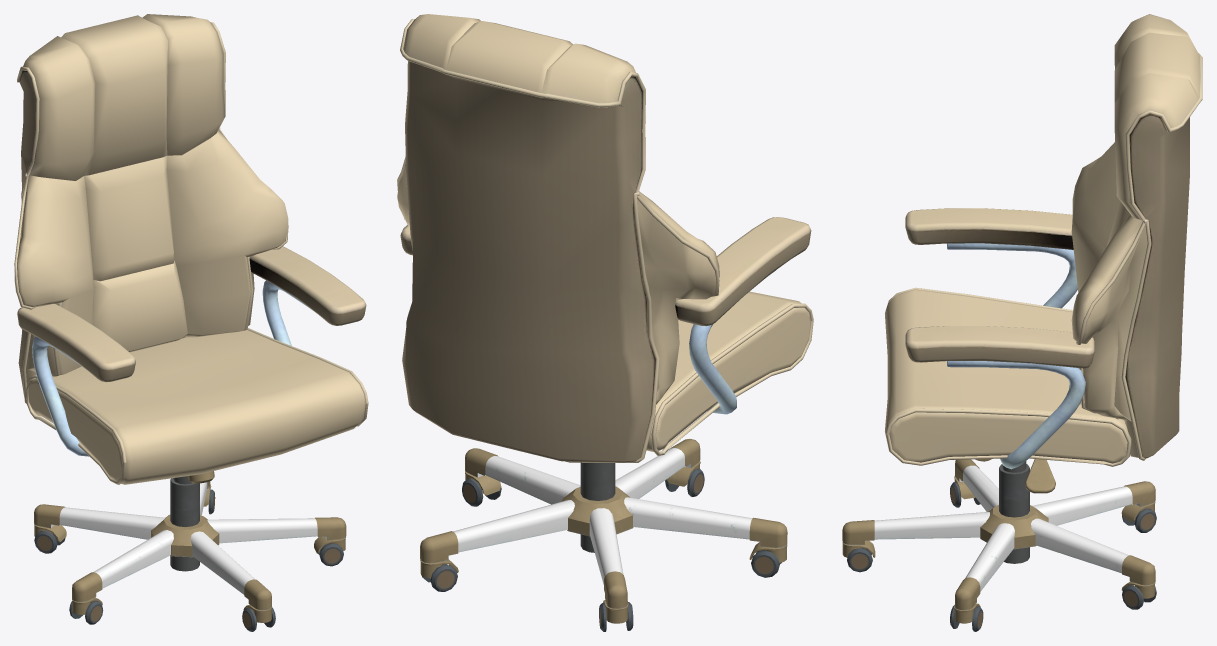
File: office_chair_cream.glb
3 views of the same model, side by side, from view 1: azimuth 30°, elevation 25°; view 2: azimuth 150°, elevation 25°; view 3: azimuth 270°, elevation 25° (orthographic). The views are drawn at different scales.
Parts seen in each view (by area): view 1: defaultMaterial (×2); view 2: defaultMaterial (×2); view 3: defaultMaterial (×2).
Part boxes in pixels (x1,y1,x2,y2): defaultMaterial (×2): [14, 14, 368, 631]; defaultMaterial (×2): [397, 14, 813, 631]; defaultMaterial (×2): [842, 14, 1202, 631].
Bounding box in the file's own units: 67.39 × 117 × 73.96.
2 materials, 2 textured.
